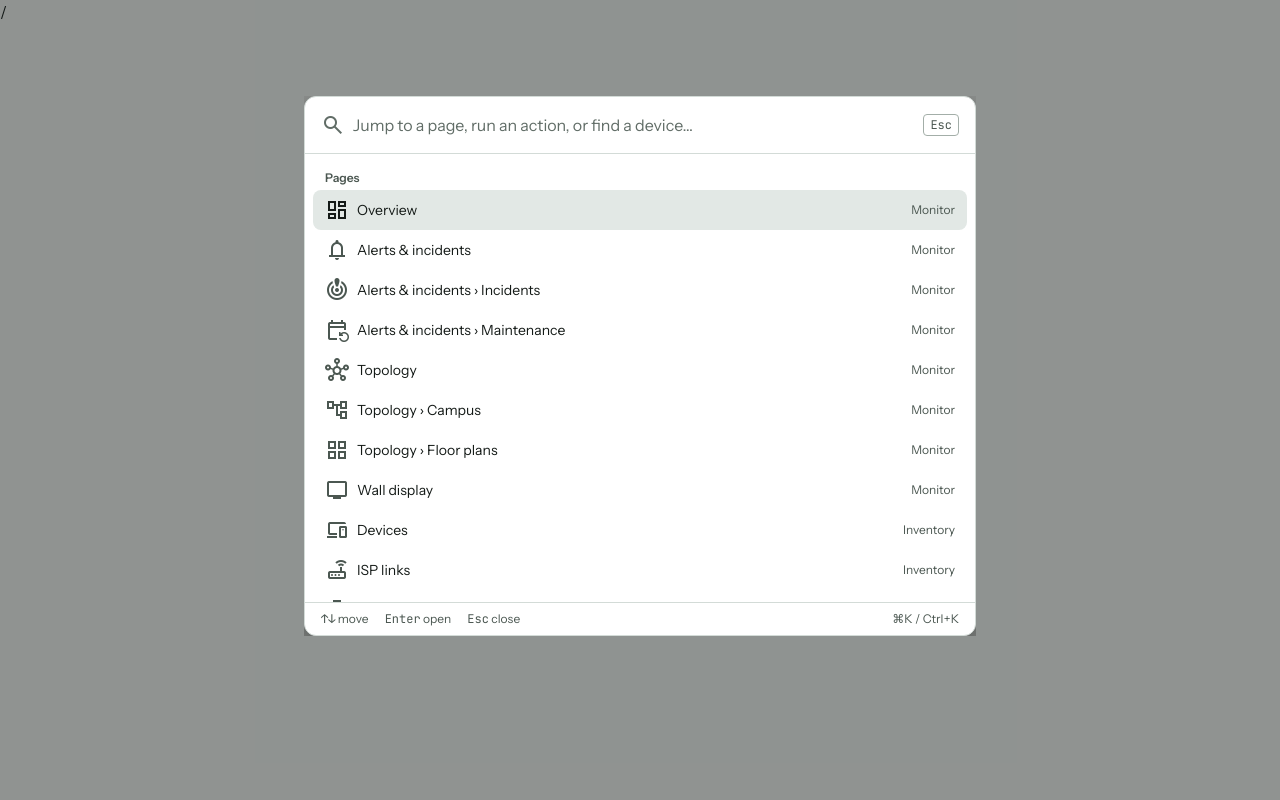
Scenario: CommandPalette › acknowledges every active critical alert
Type "acknowledge all" into the dropdown. click: (634, 125)
box: x1=353 y1=97 x2=915 y2=153
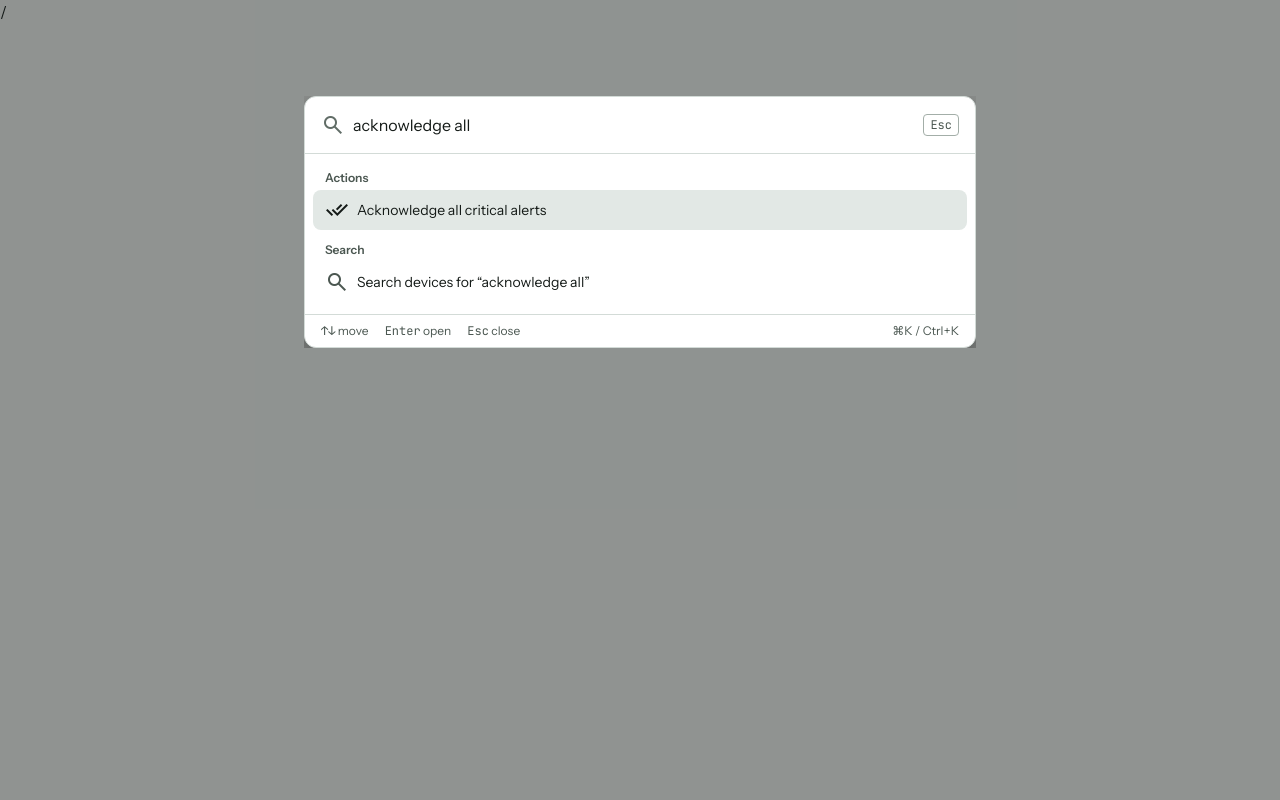
Press Enter
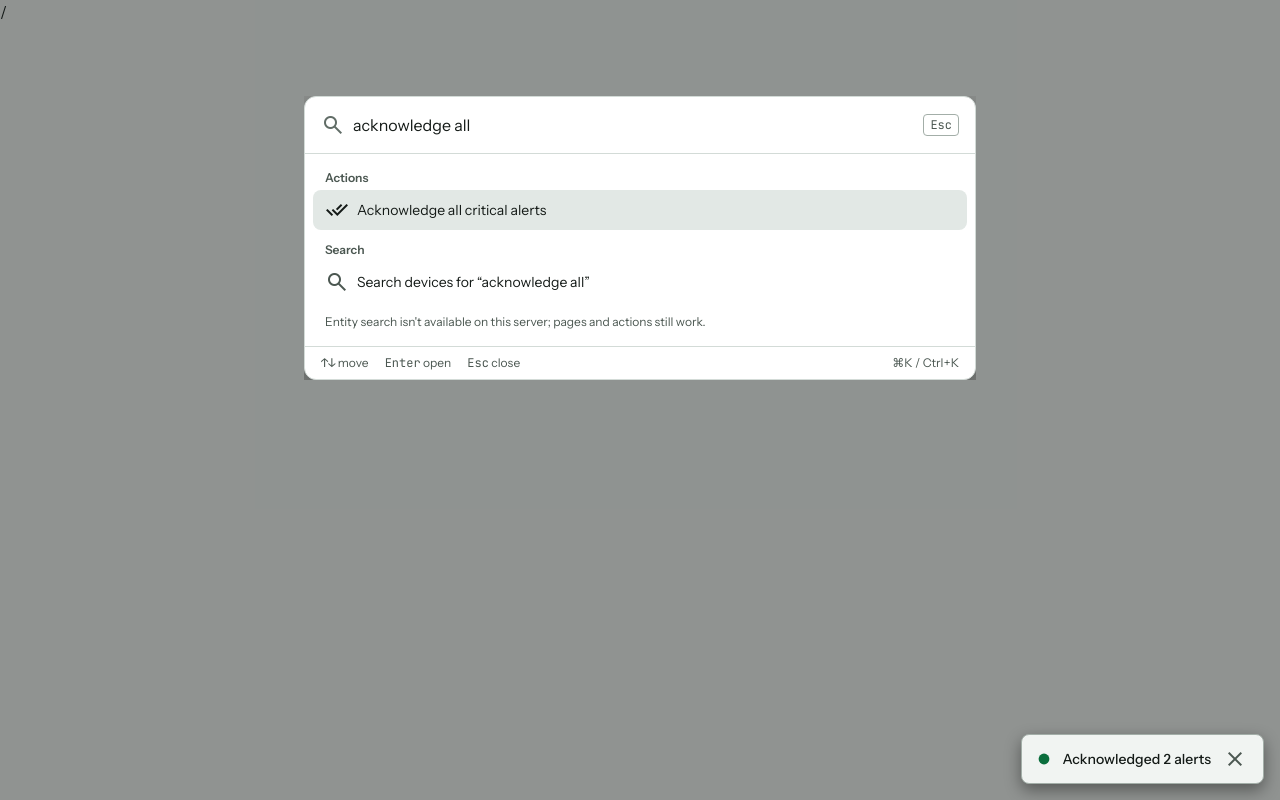
Expected: the text "Acknowledged 2 alerts" is shown, x1=1062 y1=749 x2=1211 y2=769
